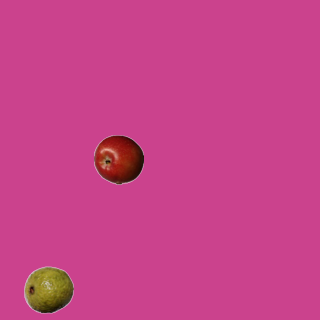Apple Braeburn: (93, 134, 143, 184)
Guava: (23, 264, 73, 314)
